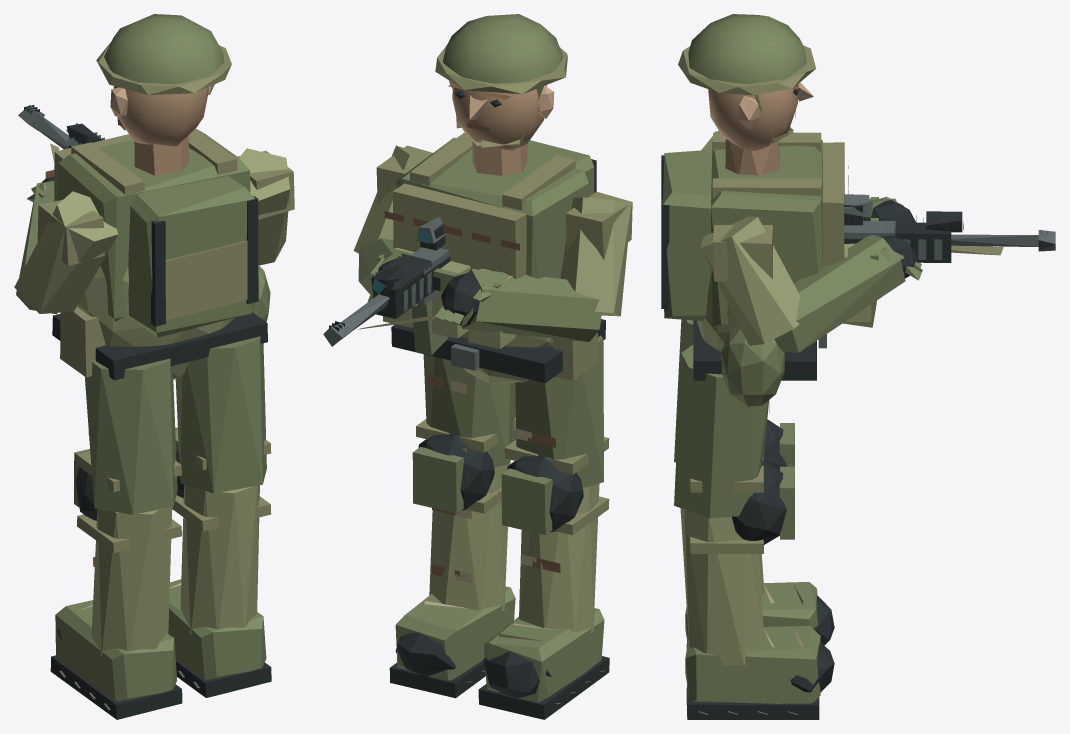
The model's file is soldier_low.glb.
3 renders of one model, left to right at view 1: azimuth 30°, elevation 25°; view 2: azimuth 150°, elevation 25°; view 3: azimuth 270°, elevation 25°, orthographic.
Parts seen in each view (by area): view 1: soldier.001; view 2: soldier.001; view 3: soldier.001.
Boxes of the visible parts, left/top/right/bottom form: soldier.001: left=14, top=14, right=294, bottom=719; soldier.001: left=323, top=14, right=632, bottom=719; soldier.001: left=661, top=14, right=1055, bottom=719.
Size of the model in its own units: 0.7617 by 1.83 by 0.9904.
